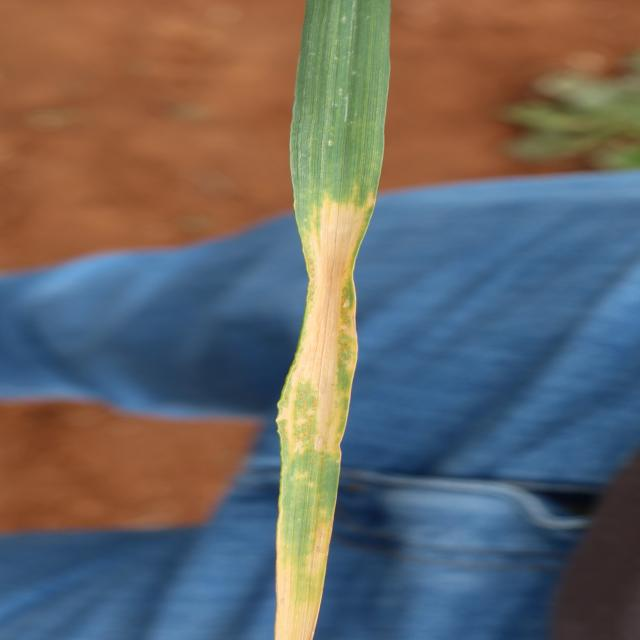Septoria: (271, 1, 394, 638)
